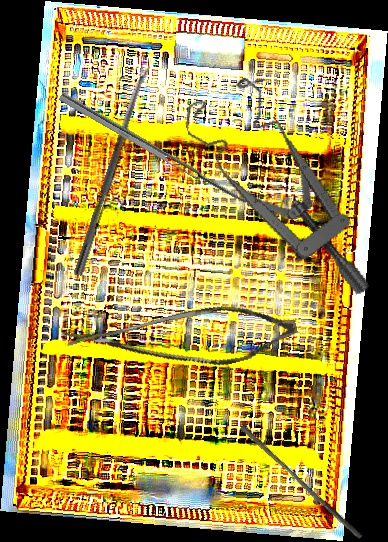Micro Scissor: (61, 277, 302, 402)
Pusher: (236, 424, 367, 540)
Spatula Surgical: (58, 84, 259, 211)
Speculum: (178, 61, 370, 326)
Surgical Spoon: (73, 63, 152, 277)
